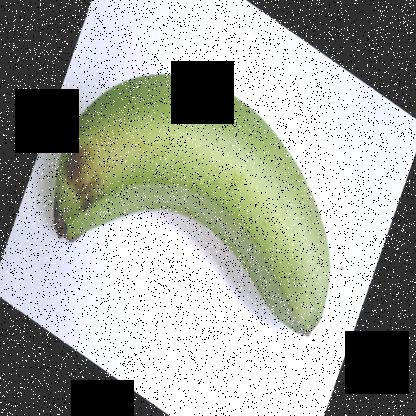freshunripe: (47, 56, 344, 342)
